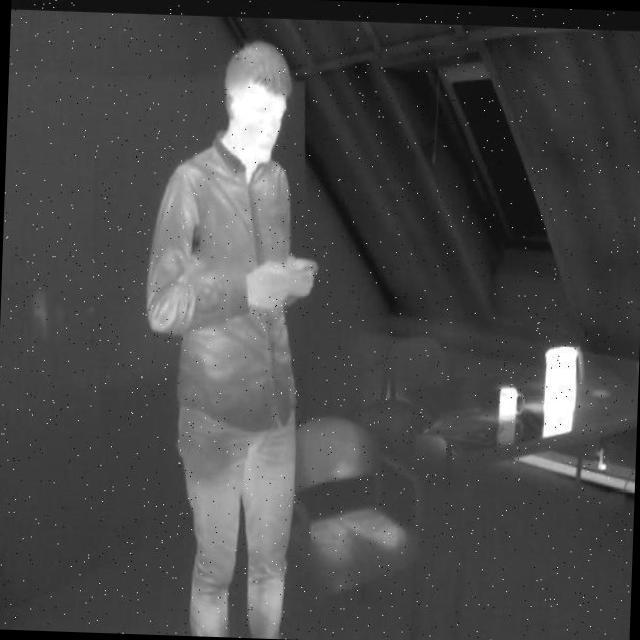person: (131, 32, 333, 640)
